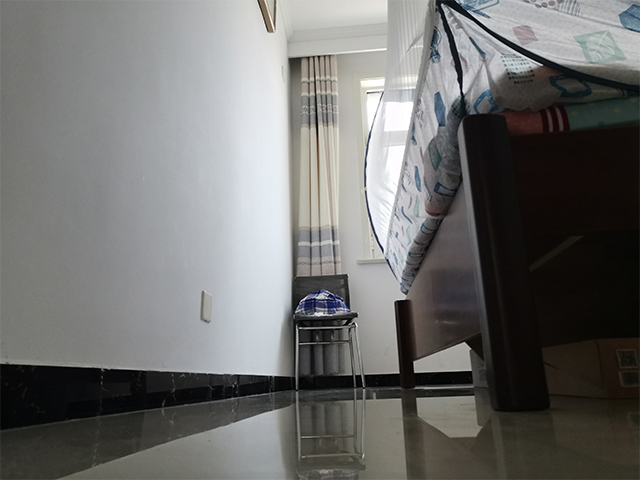curtain: (294, 49, 350, 380)
stool: (289, 271, 367, 395)
